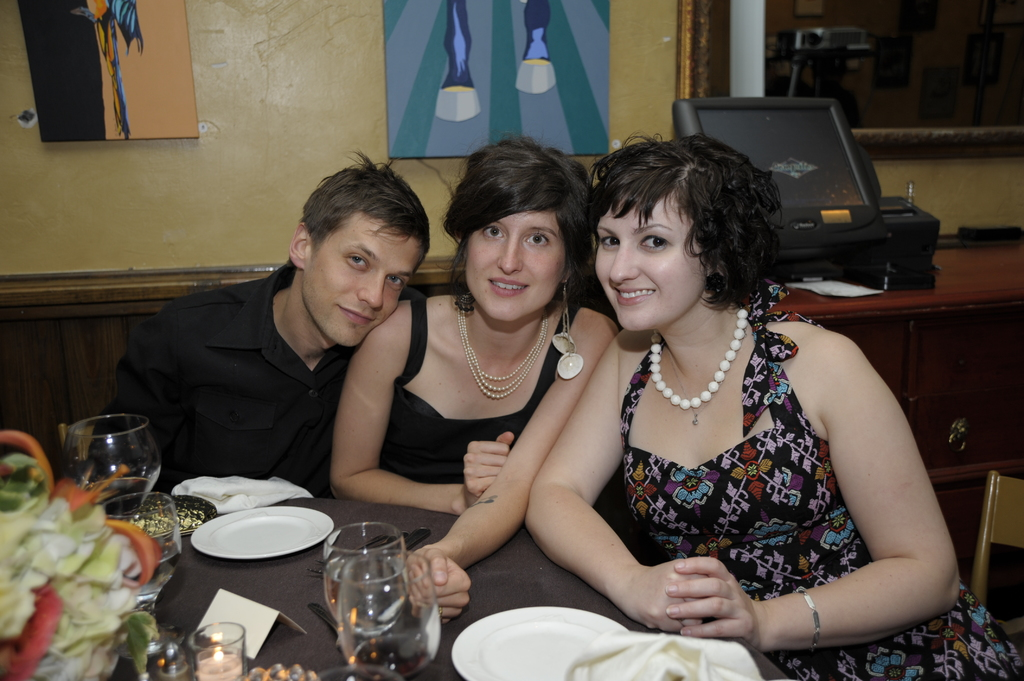plate: (181, 514, 319, 577)
